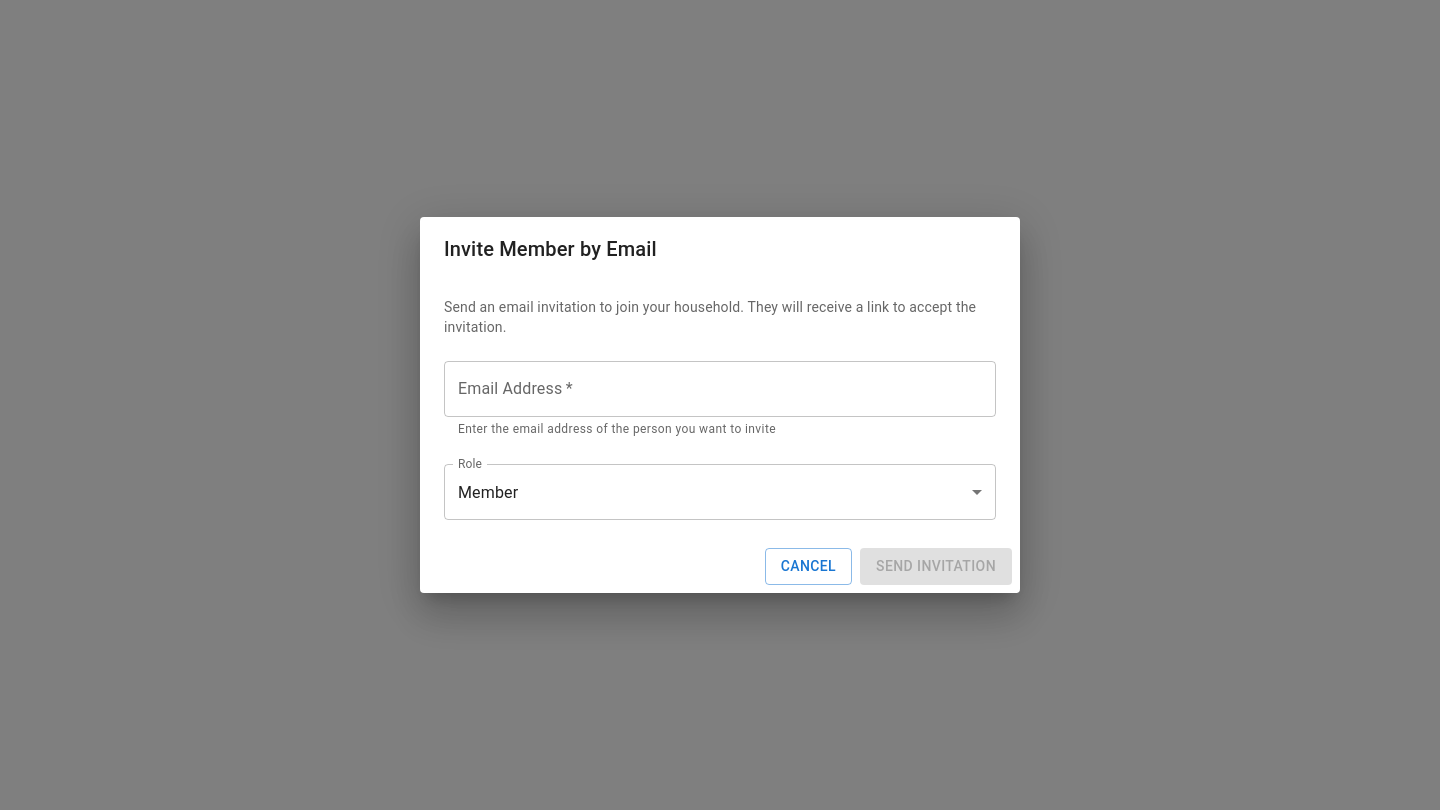
InviteMemberDialog Component › Error handling › should show generic error message for unknown errors
Type "test@example.com" into the field labelled "Email Address *" at (720, 389), box [444,361,996,417]
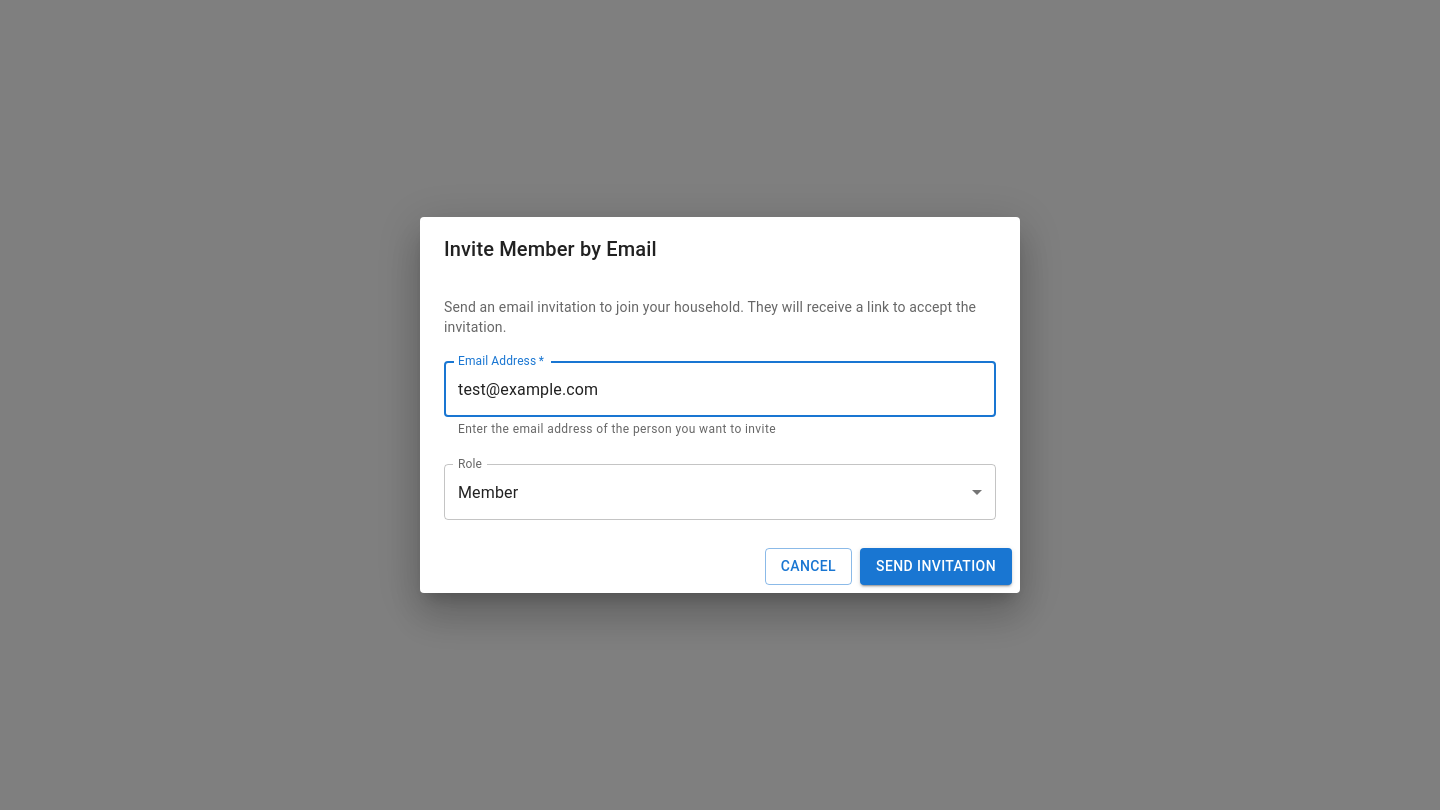
Click the button "Send Invitation" at (936, 566), box [860,548,1012,585]
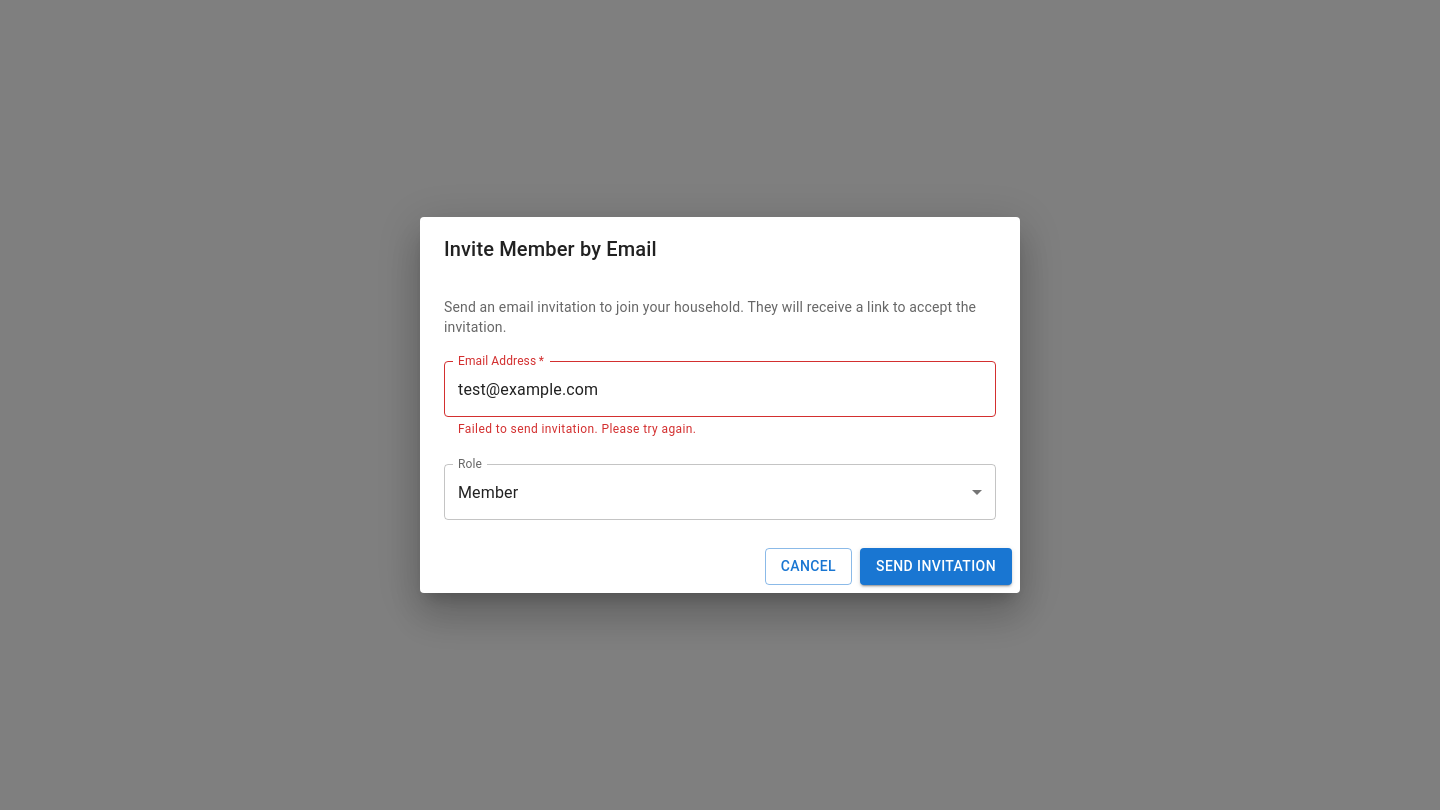
Check: the text "Failed to send invitation. Please try again." is shown, box [458,422,696,436]
